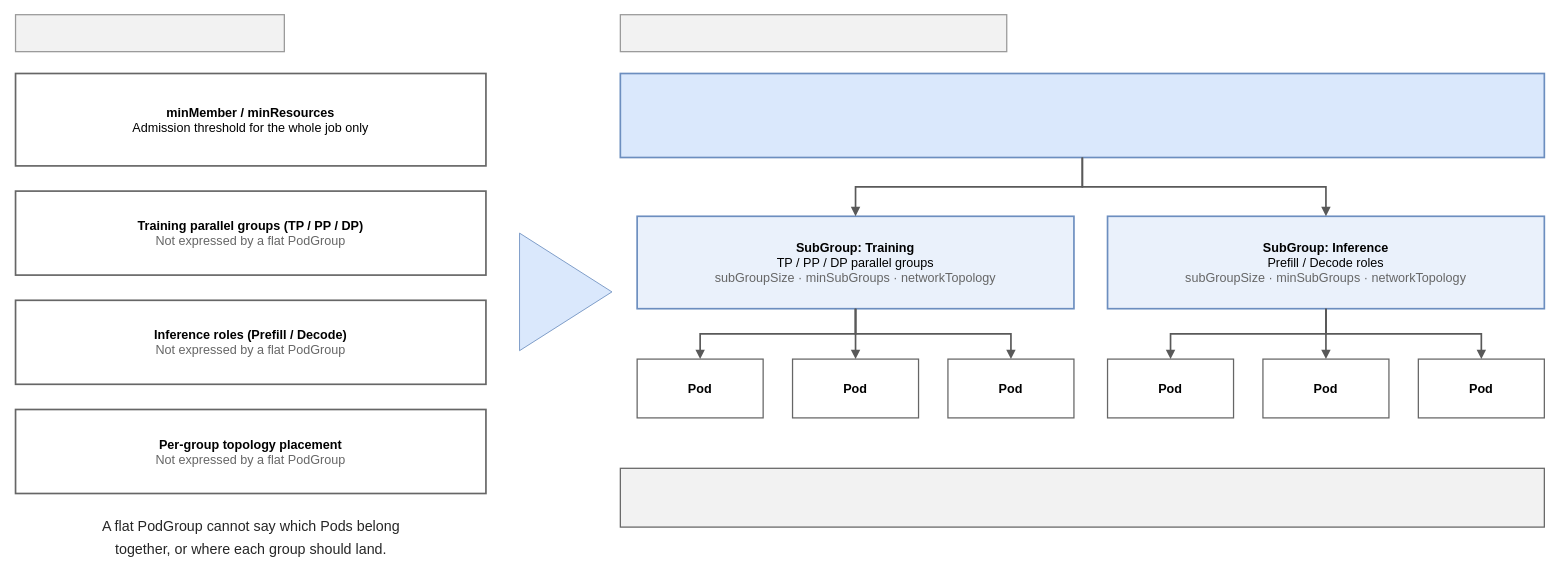
Image size: 1559x574. Some labels were removed from this diagram. Each missing label, with the centre of its shape:
"A flat PodGroup" belongs at point 150,33.
"Final hierarchy: PodGroup → SubGroup → Pod" belongs at point 813,33.
"PodGroup — job-wide admission minMember: whole job" belongs at point 1082,115.
"SubGroupPolicy: selector · size (subGroupSize) · minSubGroups · networkTopology" belongs at point 1082,497.
